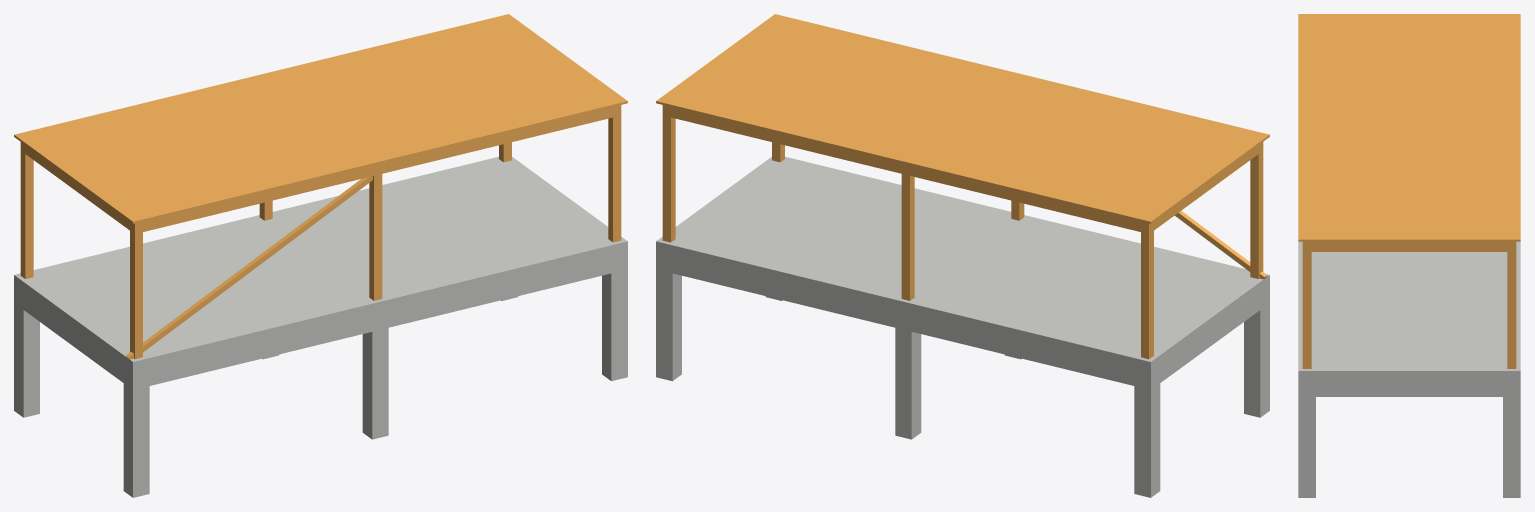
Rendered from demo.glb.
3 views of the same model, side by side, from view 1: azimuth 30°, elevation 25°; view 2: azimuth 150°, elevation 25°; view 3: azimuth 270°, elevation 25° (orthographic). The views are drawn at different scales.
Parts seen in each view (by area): view 1: EXISTENTE_marco_HA, PROYECTADO_marco_acero; view 2: EXISTENTE_marco_HA, PROYECTADO_marco_acero; view 3: PROYECTADO_marco_acero, EXISTENTE_marco_HA.
Part boxes in pixels (x1,y1,x2,y2): EXISTENTE_marco_HA: (14, 156, 627, 497); PROYECTADO_marco_acero: (14, 14, 627, 359); EXISTENTE_marco_HA: (656, 156, 1269, 497); PROYECTADO_marco_acero: (656, 14, 1269, 359); PROYECTADO_marco_acero: (1298, 14, 1520, 368); EXISTENTE_marco_HA: (1298, 241, 1520, 497).
Bounding box in the file's own units: 12.03 × 6.4 × 5.
